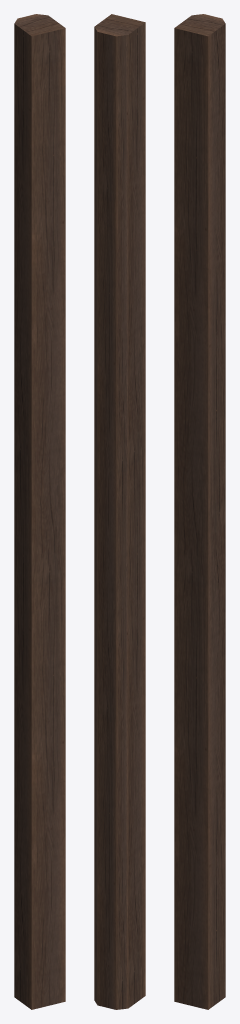
Rendered from pile05.fbx.
3 views of the same model, side by side, from view 1: azimuth 30°, elevation 25°; view 2: azimuth 150°, elevation 25°; view 3: azimuth 330°, elevation 25° (orthographic).
Parts seen in each view (by area): view 1: pile05; view 2: pile05; view 3: pile05.
Boxes of the visible parts, bbox=[...] form: pile05: bbox=[14, 14, 65, 1009]; pile05: bbox=[94, 14, 145, 1009]; pile05: bbox=[174, 14, 225, 1009].
Size of the model in its own units: 10.79 by 296 by 12.
